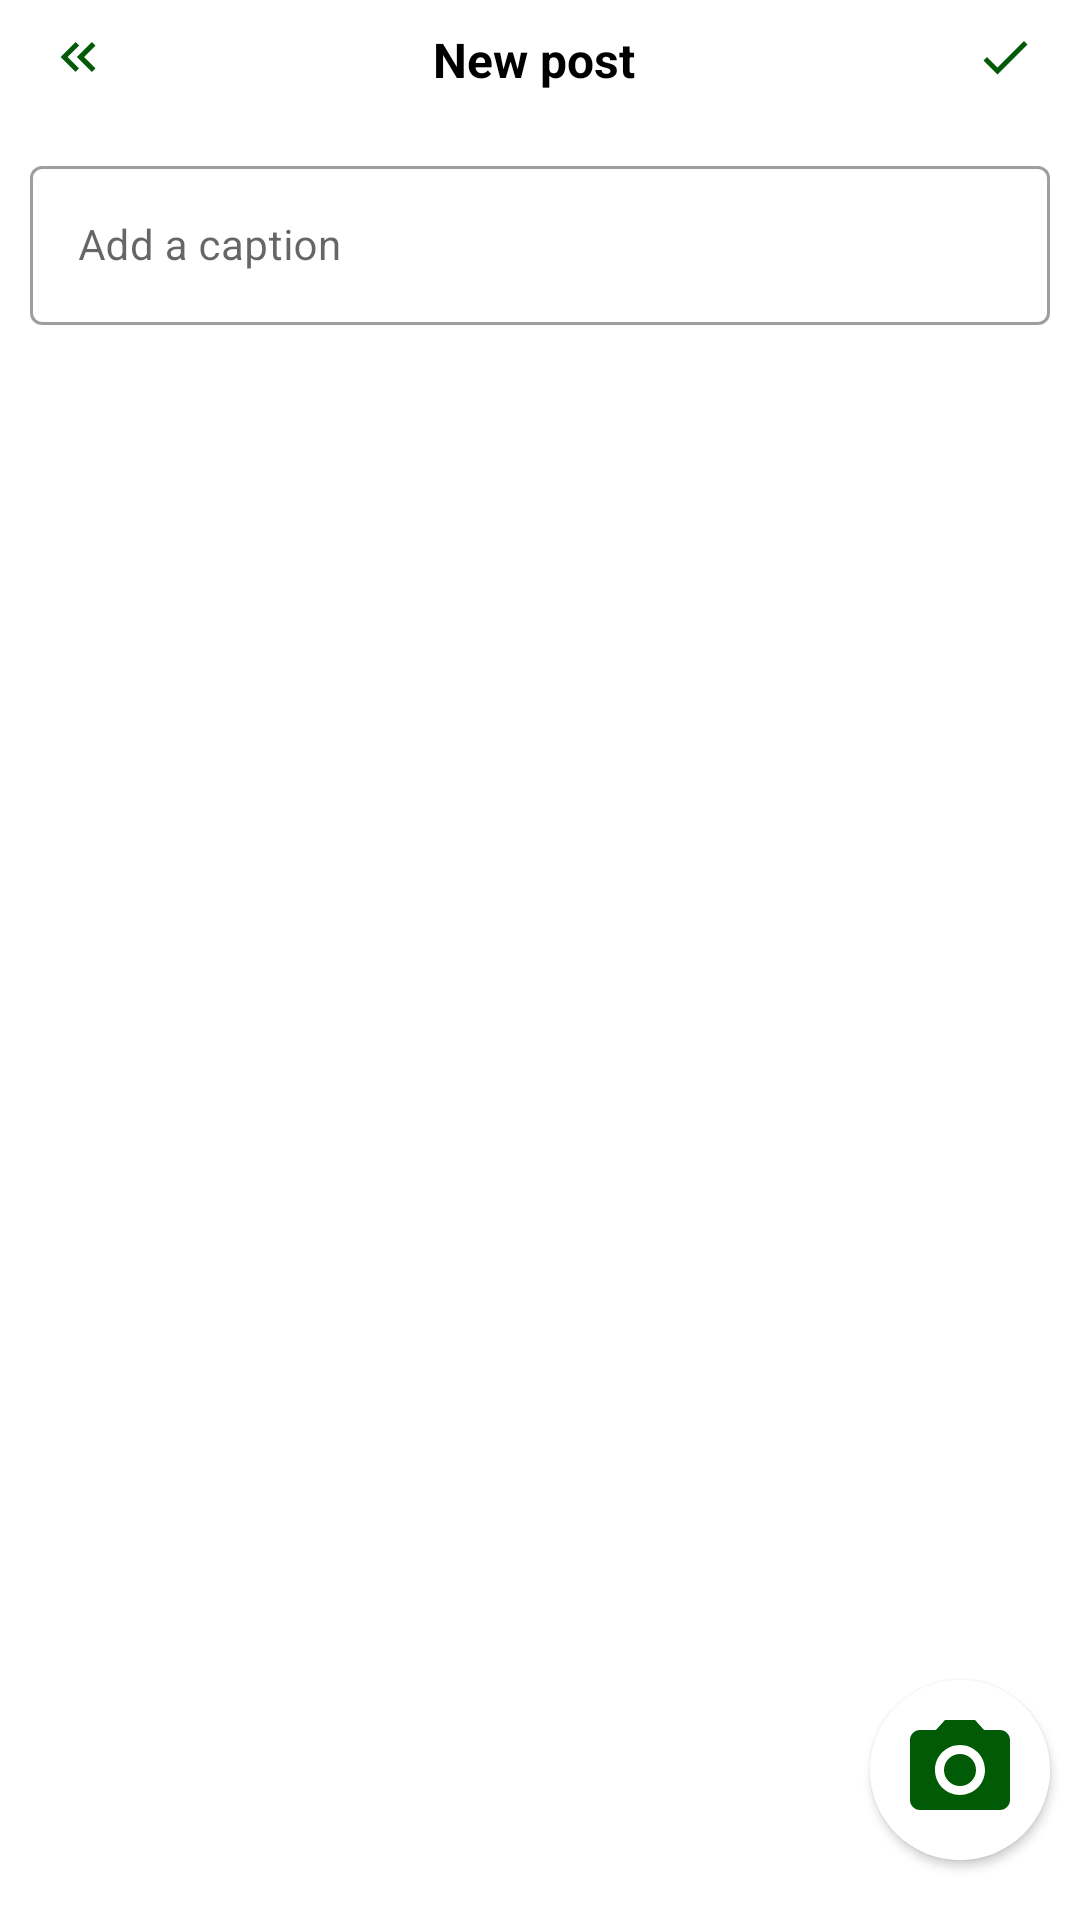

Icons on this 1080x1920 Android screen, each with its box as (x1, y1, x2, y2):
camera: (873, 1720, 1050, 1810)
done: (983, 41, 1028, 75)
keyboard double arrow left: (61, 42, 96, 72)
